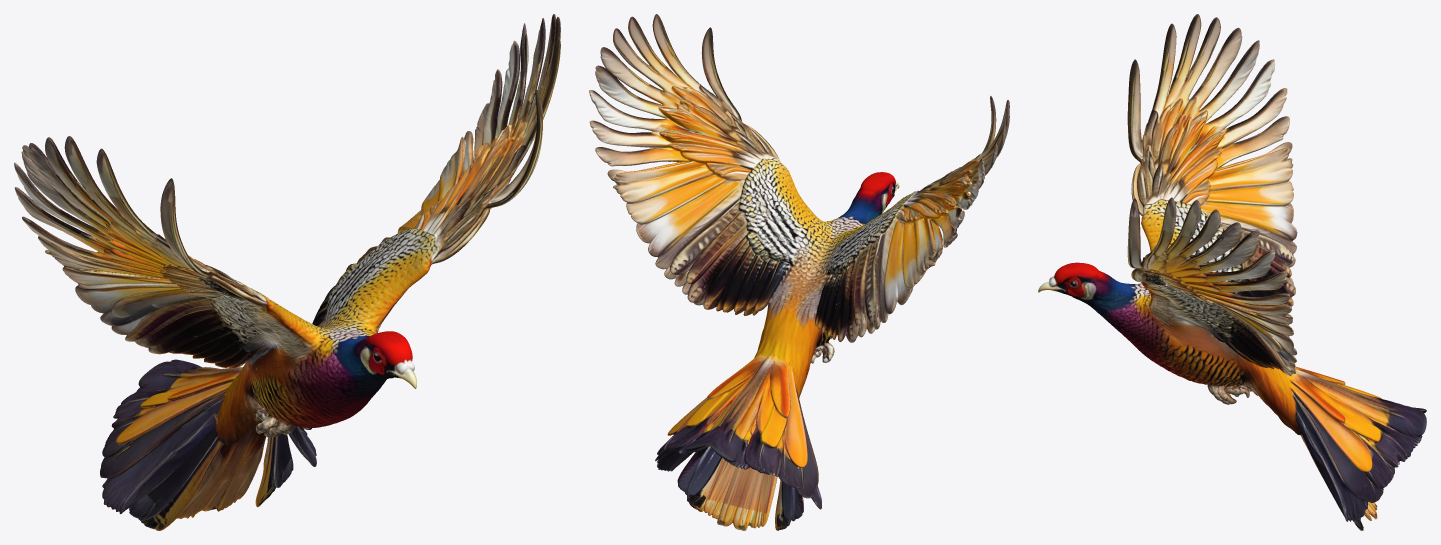
File: pheasant.glb
3 views of the same model, side by side, from view 1: azimuth 30°, elevation 25°; view 2: azimuth 150°, elevation 25°; view 3: azimuth 270°, elevation 25° (orthographic). The views are drawn at different scales.
Visible parts, largest first — view 1: Object_5, Object_6, Object_10, Object_9, Object_7, Object_12, Object_8, Object_13, Object_11; view 2: Object_12, Object_9, Object_11, Object_7, Object_10, Object_13, Object_8, Object_6, Object_5; view 3: Object_5, Object_6, Object_9, Object_12, Object_8, Object_7, Object_13, Object_10, Object_11.
Boxes of the visible parts, bbox=[...] form: Object_5: bbox=[128, 89, 542, 425]; Object_6: bbox=[64, 17, 560, 432]; Object_10: bbox=[100, 367, 316, 529]; Object_9: bbox=[23, 18, 545, 478]; Object_7: bbox=[45, 17, 560, 427]; Object_12: bbox=[14, 40, 519, 435]; Object_8: bbox=[41, 14, 556, 437]; Object_13: bbox=[21, 23, 528, 420]; Object_11: bbox=[45, 160, 449, 530]; Object_12: bbox=[589, 90, 978, 389]; Object_9: bbox=[600, 47, 998, 465]; Object_11: bbox=[620, 192, 936, 530]; Object_7: bbox=[613, 17, 1009, 294]; Object_10: bbox=[655, 360, 821, 530]; Object_13: bbox=[595, 65, 984, 363]; Object_8: bbox=[609, 28, 1005, 360]; Object_6: bbox=[628, 14, 1009, 248]; Object_5: bbox=[678, 27, 996, 266]; Object_5: bbox=[1038, 59, 1190, 374]; Object_6: bbox=[1137, 15, 1229, 384]; Object_9: bbox=[1216, 27, 1337, 483]; Object_12: bbox=[1232, 59, 1292, 418]; Object_8: bbox=[1182, 20, 1255, 404]; Object_7: bbox=[1164, 14, 1229, 388]; Object_13: bbox=[1216, 40, 1270, 397]; Object_10: bbox=[1296, 367, 1392, 530]; Object_11: bbox=[1244, 152, 1426, 530].
Bounding box in the file's own units: 1.9 × 1.84 × 1.59.
1 material, 1 textured.
